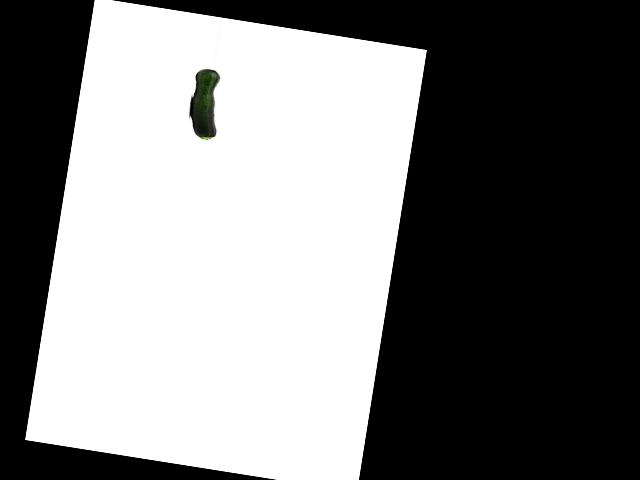cucumber: (185, 67, 225, 141)
